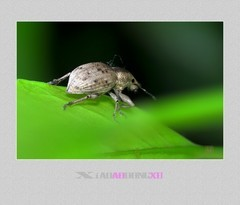chunchong: (62, 55, 152, 112)
